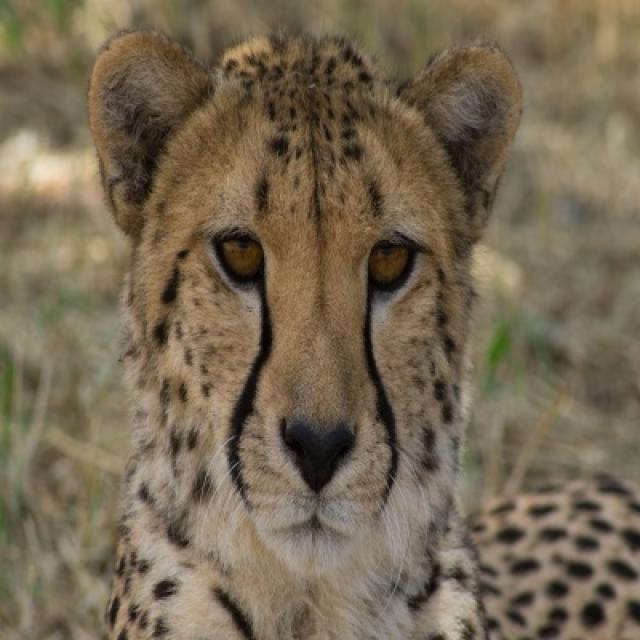Cheetah: (86, 29, 525, 638)
